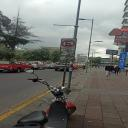NoEstacionar: (56, 37, 80, 58)
